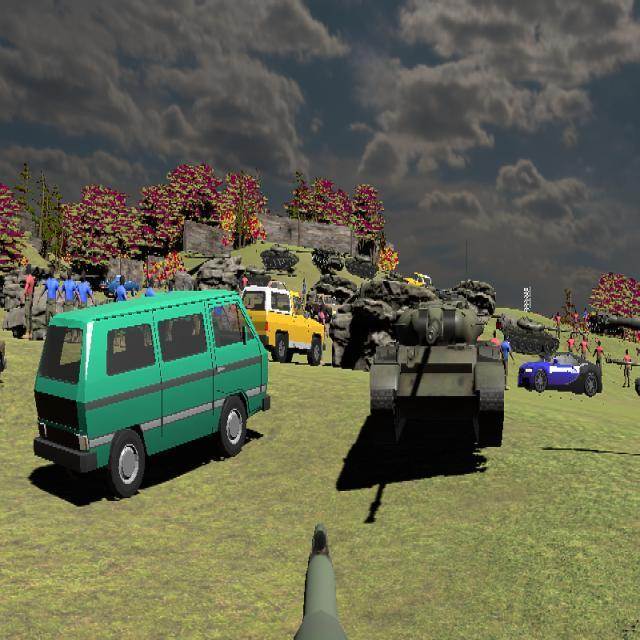Human: (38, 267, 64, 337), (74, 272, 96, 337), (59, 271, 80, 334), (23, 264, 36, 340), (499, 330, 514, 390)
Tank: (368, 297, 506, 449), (497, 316, 575, 355), (260, 244, 310, 270), (312, 243, 344, 273), (346, 253, 380, 279)
car: (33, 290, 270, 497), (236, 283, 326, 366), (517, 351, 603, 397), (302, 293, 339, 324)
